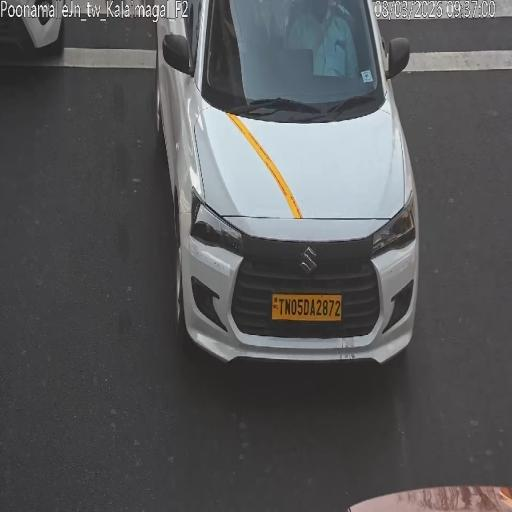person_with_seatbelt: (310, 11, 335, 62)
